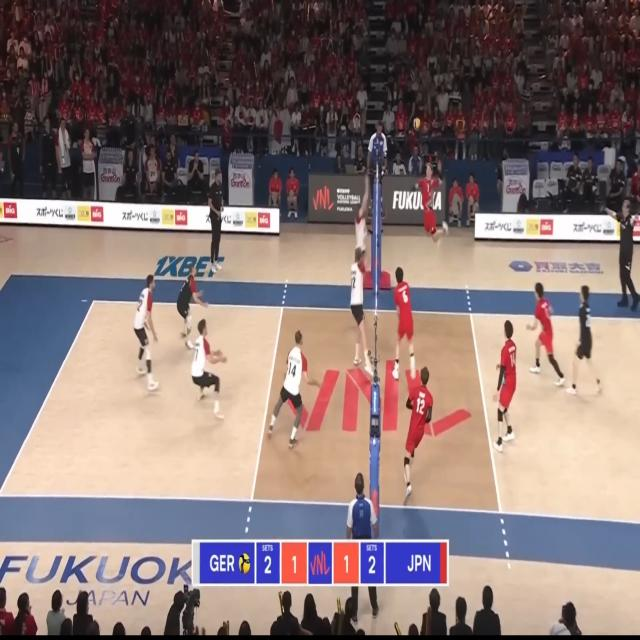ball: (413, 118, 420, 131)
